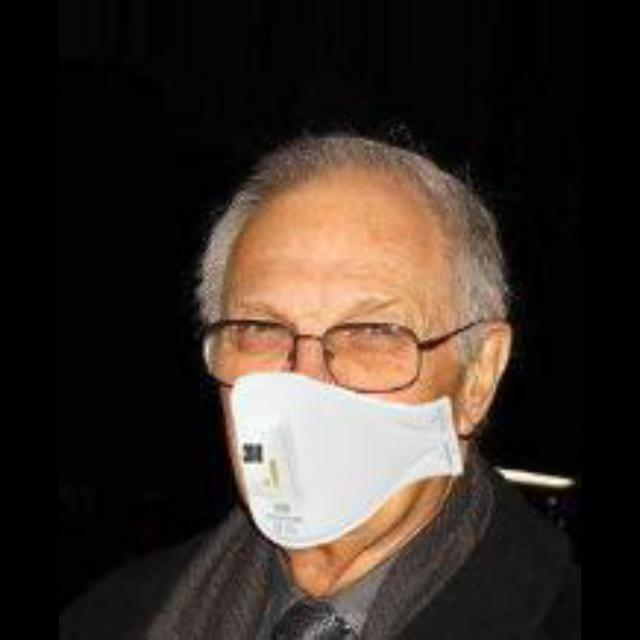suspicion: (204, 170, 492, 542)
